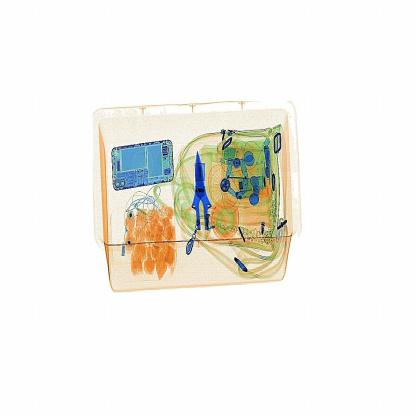gun: (177, 150, 229, 254)
